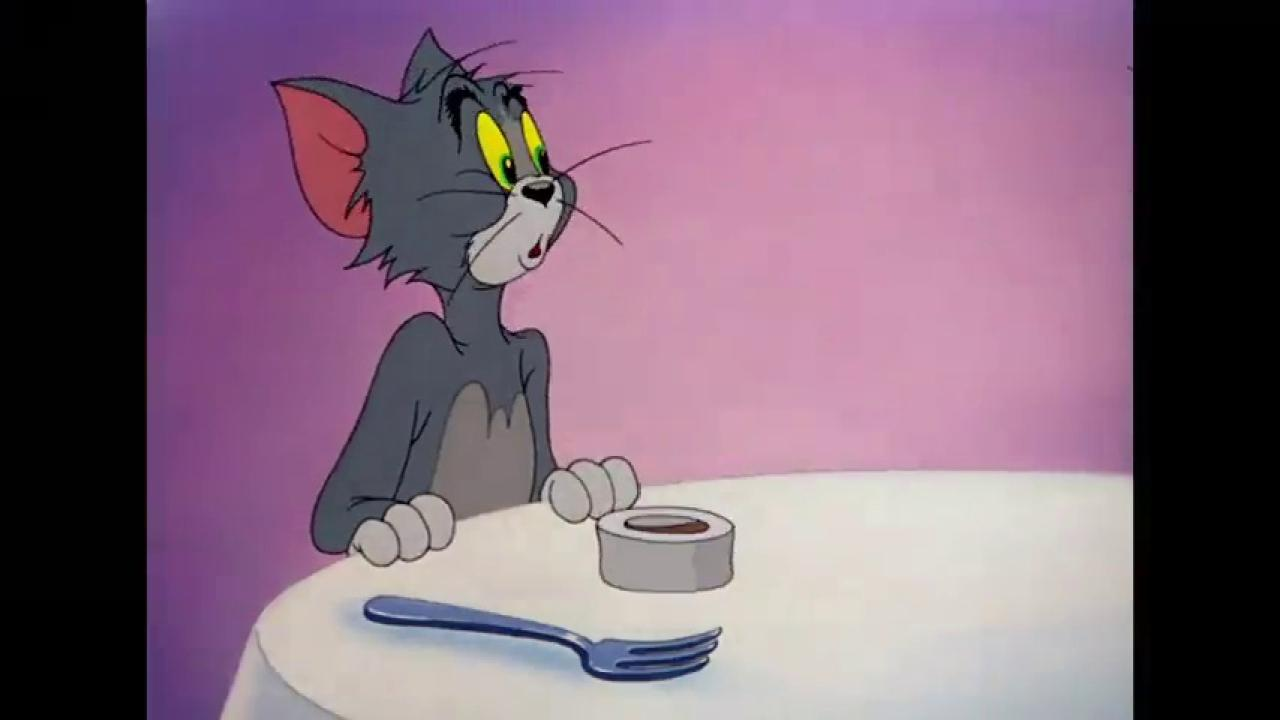Tom: (269, 25, 642, 570)
